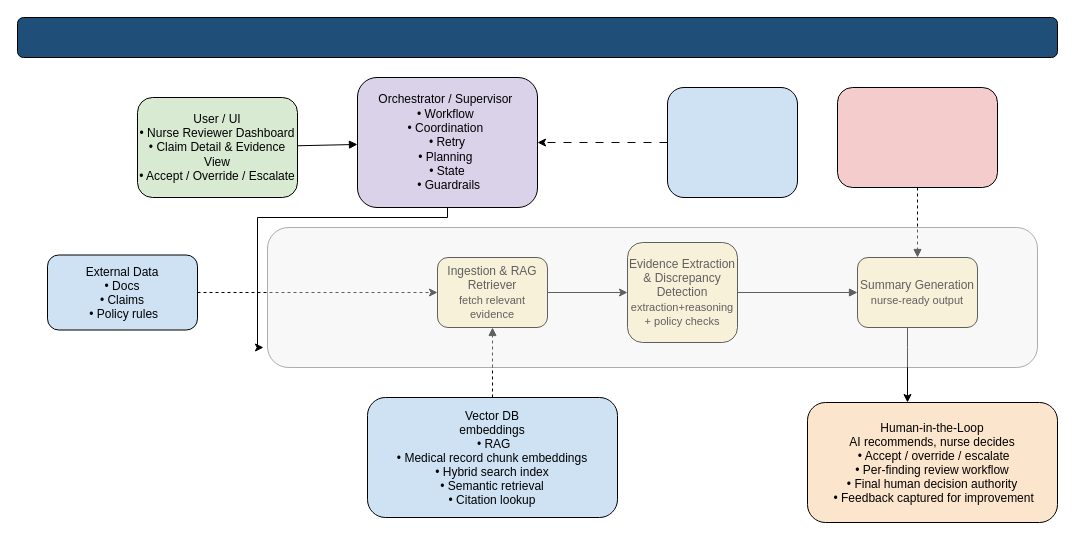
Some shapes in this 1075 by 540 pixel diagram are drawn without their labels. The centre of each missing label's shape, as x and y in pixels:
"Agents" belongs at pixel 652 297.
"Medical AI Reviewer - Multi-Agent RAG Architecture" belongs at pixel 537 37.
"Observability LangSmith • Traces • Monitors • Debugs LLM workflows." belongs at pixel 732 142.
"OpenAI LLM • Reasoning • Extraction • Summarization • Discrepancy explanation" belongs at pixel 917 137.
